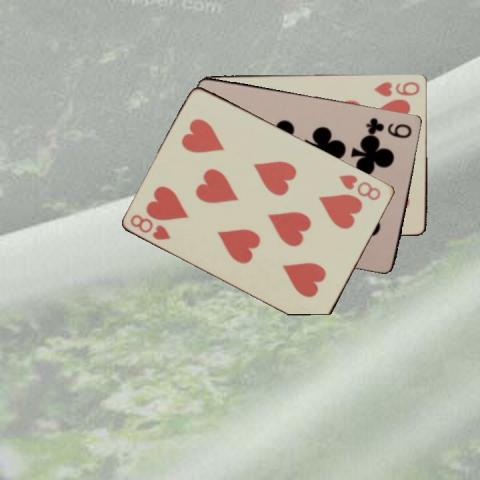8h: (336, 171, 383, 202), (127, 211, 173, 242)
9c: (363, 115, 414, 138)
9h: (372, 79, 422, 97)
